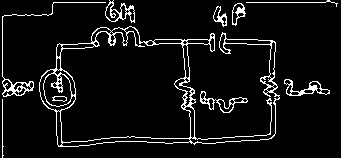capacitor: (202, 31, 236, 55)
inductor: (87, 26, 147, 49)
resistor: (258, 67, 282, 114), (174, 73, 198, 116)
voltage: (39, 67, 76, 115)
